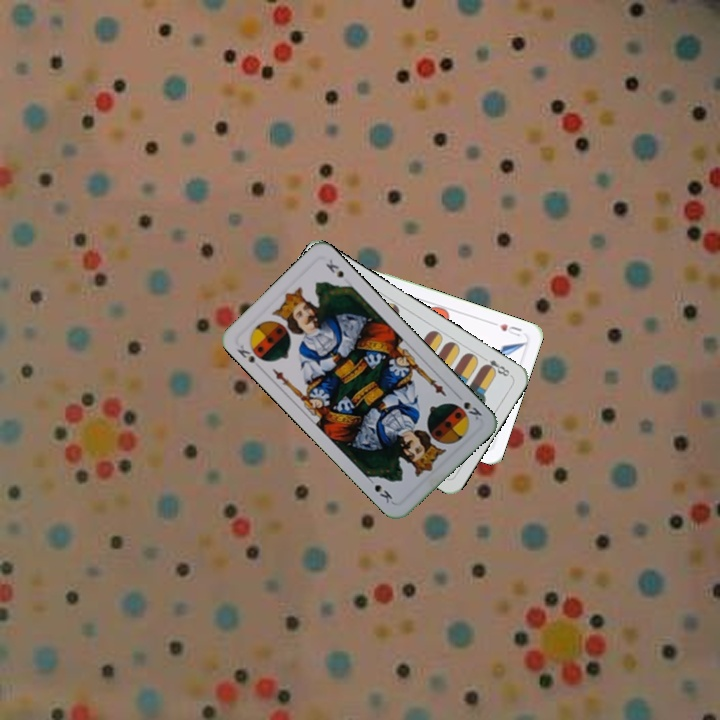E8: (478, 352, 514, 379)
HU: (488, 318, 524, 339)
SK: (452, 390, 485, 423), (233, 339, 269, 366)
